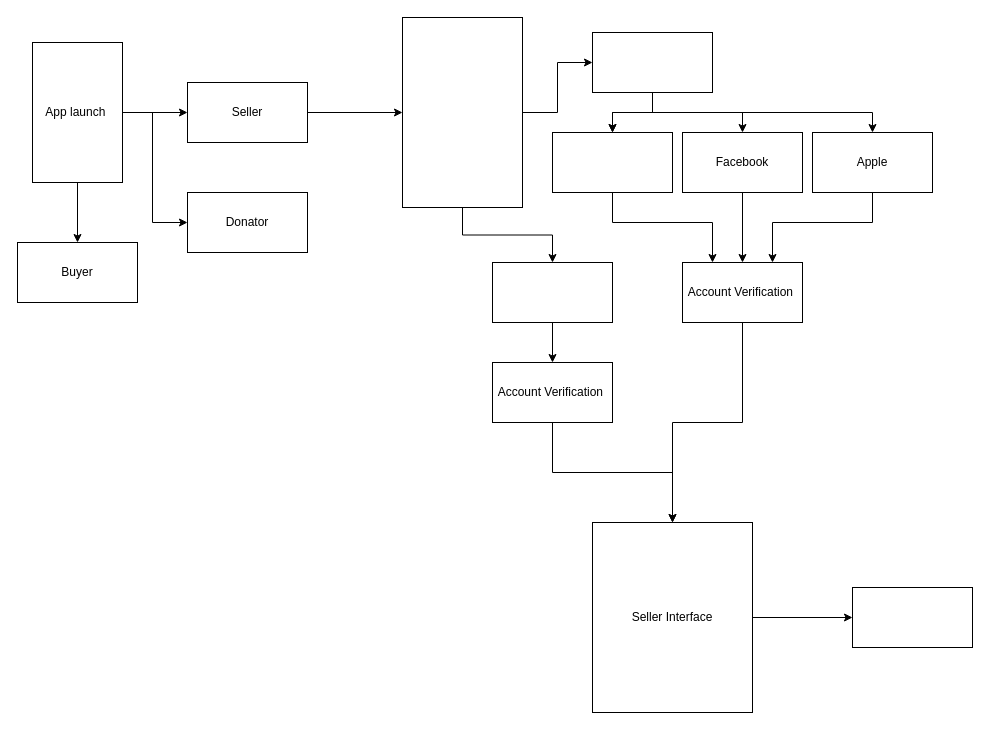
The diagram is 990 pixels wide and 730 high, and some of its shapes have lost their labels. Here are the shapes that lost their labels. From the top down, the centre of each, then its label:
At point (652, 62): "Signup Through".
At point (462, 112): "Login Screen".
At point (612, 162): "Google".
At point (552, 292): "Create account".
At point (912, 617): "Setting Up profile".
